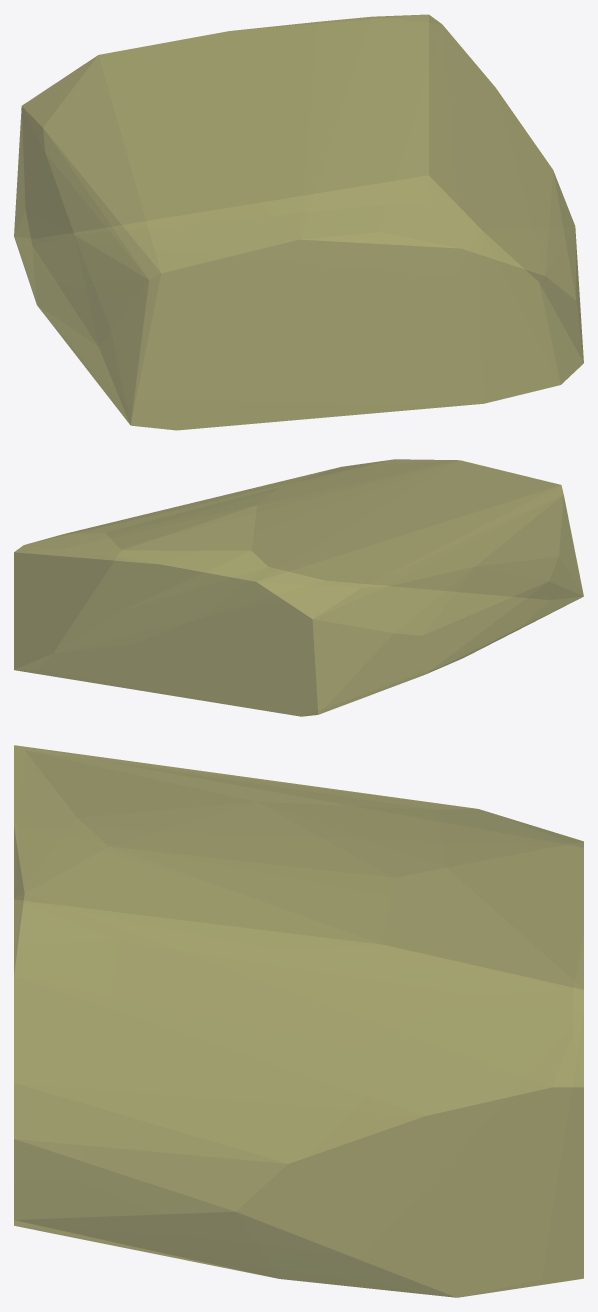
3 renders of one model, top to bottom at view 1: azimuth 30°, elevation 25°; view 2: azimuth 150°, elevation 25°; view 3: azimuth 270°, elevation 25°, orthographic. The views are drawn at different scales.
Visible parts, largest first — view 1: Shape_IndexedFaceSet.006_Shape_IndexedFaceSet.817; view 2: Shape_IndexedFaceSet.006_Shape_IndexedFaceSet.817; view 3: Shape_IndexedFaceSet.006_Shape_IndexedFaceSet.817.
Part boxes in pixels (bbox=[...]): Shape_IndexedFaceSet.006_Shape_IndexedFaceSet.817: bbox=[14, 14, 583, 430]; Shape_IndexedFaceSet.006_Shape_IndexedFaceSet.817: bbox=[14, 459, 583, 716]; Shape_IndexedFaceSet.006_Shape_IndexedFaceSet.817: bbox=[14, 745, 583, 1297].
Size of the model in its own units: 0.1853 by 0.0715 by 0.143.
